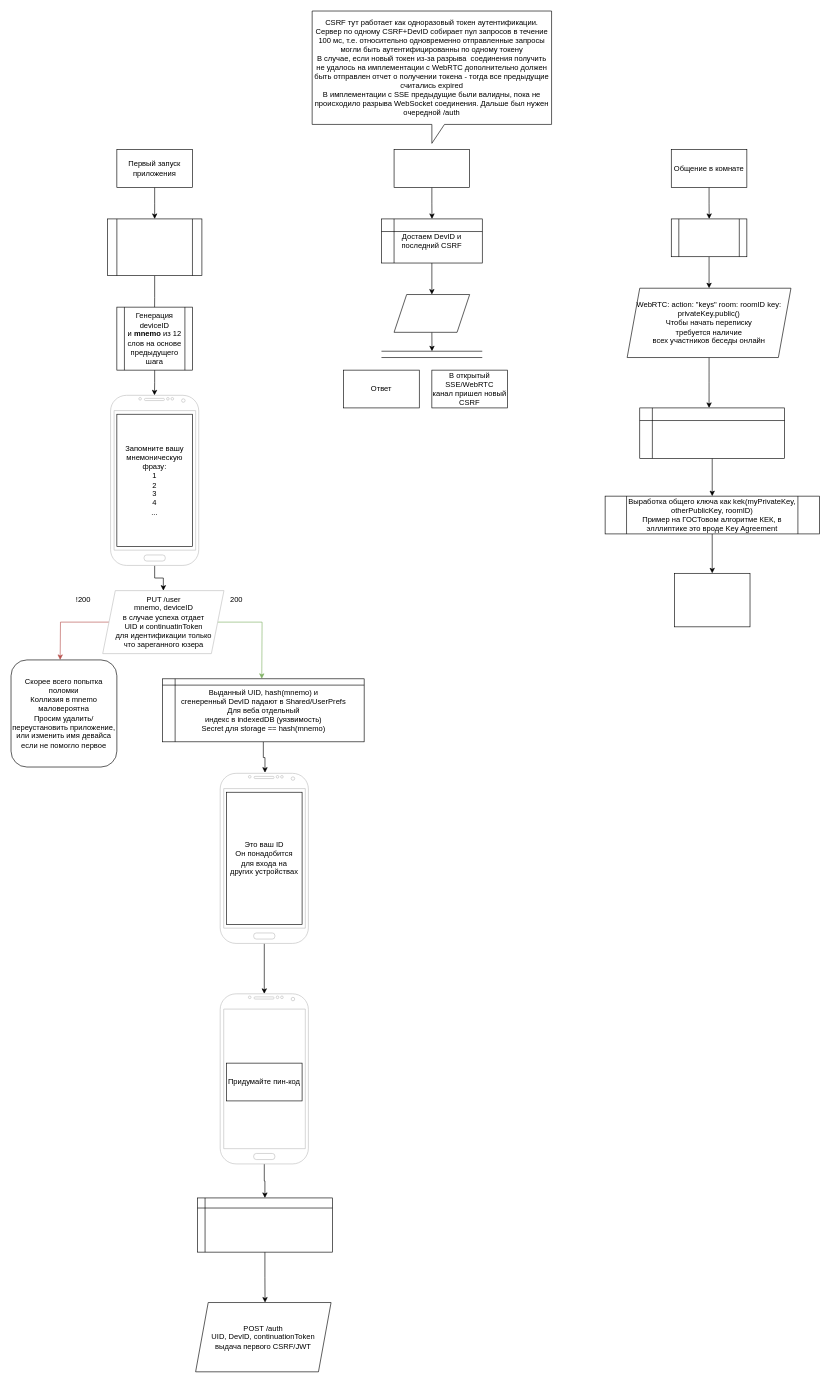
Some shapes in this 830 by 1383 pixel diagram are drawn without their labels. The centre of each missing label's shape, as x and y in pixels:
"HTTP Headers: DevID, CSRF" goes at pixel 431 313.
"Shared/UserPrefs шифруются этим значением AES CBC" goes at pixel 264 1224.
"Аутентификация статичного HTTP запроса" goes at pixel 431 168.
"Генерация privateKey используя mnemo+roomID" goes at pixel 709 237.
"Готовы чатиться Тело собщения шифруется и дешифруется используя общий ключ" goes at pixel 712 600.
"Полученный публичный другого пользователя сохранен в Storage" goes at pixel 712 432.
"Сбор инфы уникальной о девайсе: hostname, merchantID..." goes at pixel 154 247.
